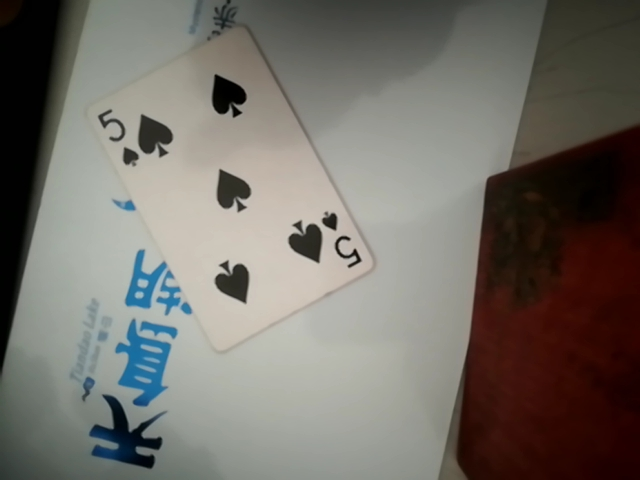ht 5: (89, 12, 369, 358)
